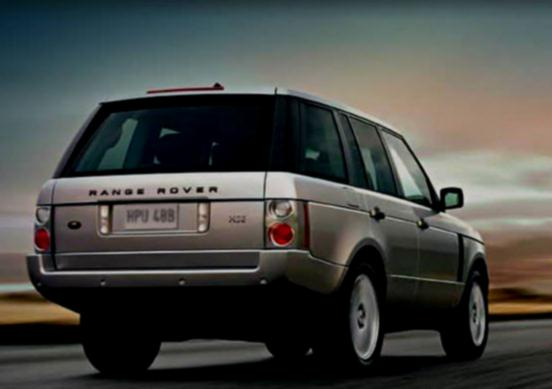range rover: (83, 179, 225, 205)
